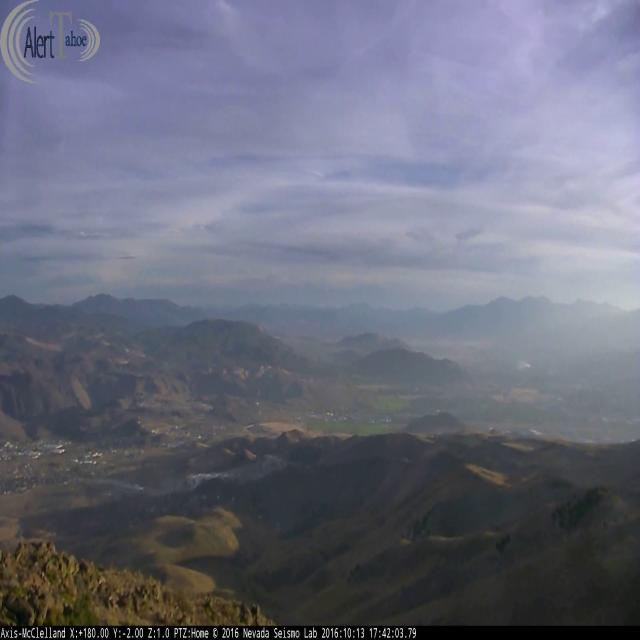smoke: (518, 357, 530, 371)
